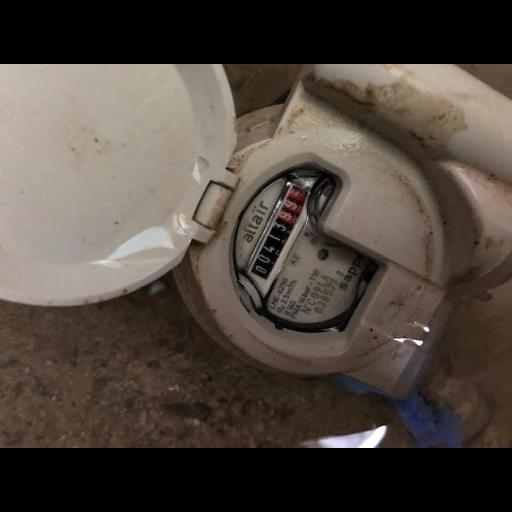0: (250, 261, 273, 280), (255, 251, 277, 270)
1: (266, 229, 288, 249)
3: (271, 219, 294, 238)
4: (261, 239, 283, 259)
7: (287, 184, 309, 204)
9: (275, 207, 299, 228), (281, 195, 304, 215)
border_water_meter_number: (236, 165, 326, 299)
